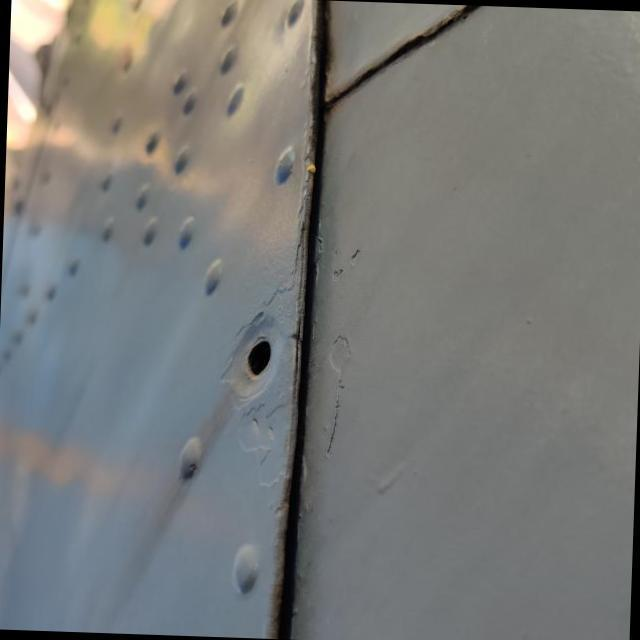Fastener Damage: (204, 310, 301, 402)
